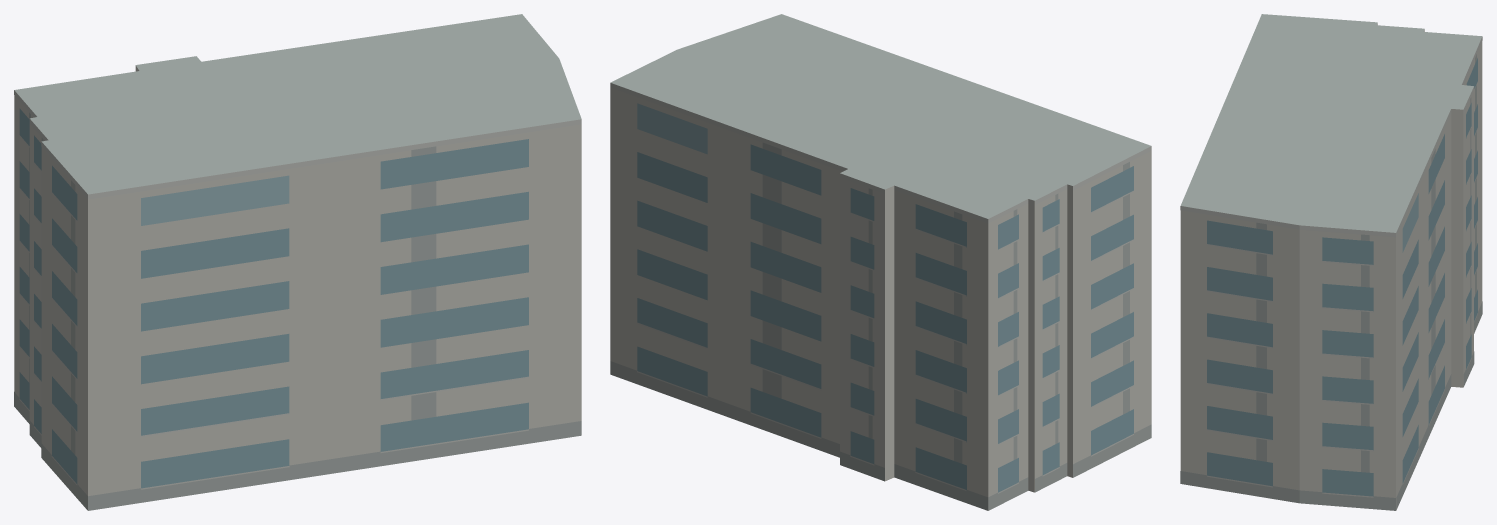
File: survey-upis-32674695.glb
The picture shows the model from 3 angles, left to right: view 1: azimuth 30°, elevation 25°; view 2: azimuth 150°, elevation 25°; view 3: azimuth 270°, elevation 25°; orthographic projection. The views are drawn at different scales.
Visible parts, largest first — view 1: survey-upis-32674695.tmp; view 2: survey-upis-32674695.tmp; view 3: survey-upis-32674695.tmp.
Boxes of the visible parts, left/top/right/bottom form: survey-upis-32674695.tmp: left=14, top=14, right=581, bottom=510; survey-upis-32674695.tmp: left=610, top=14, right=1151, bottom=510; survey-upis-32674695.tmp: left=1180, top=14, right=1482, bottom=510.
Bounding box in the file's own units: 26.44 × 15.65 × 15.42.
